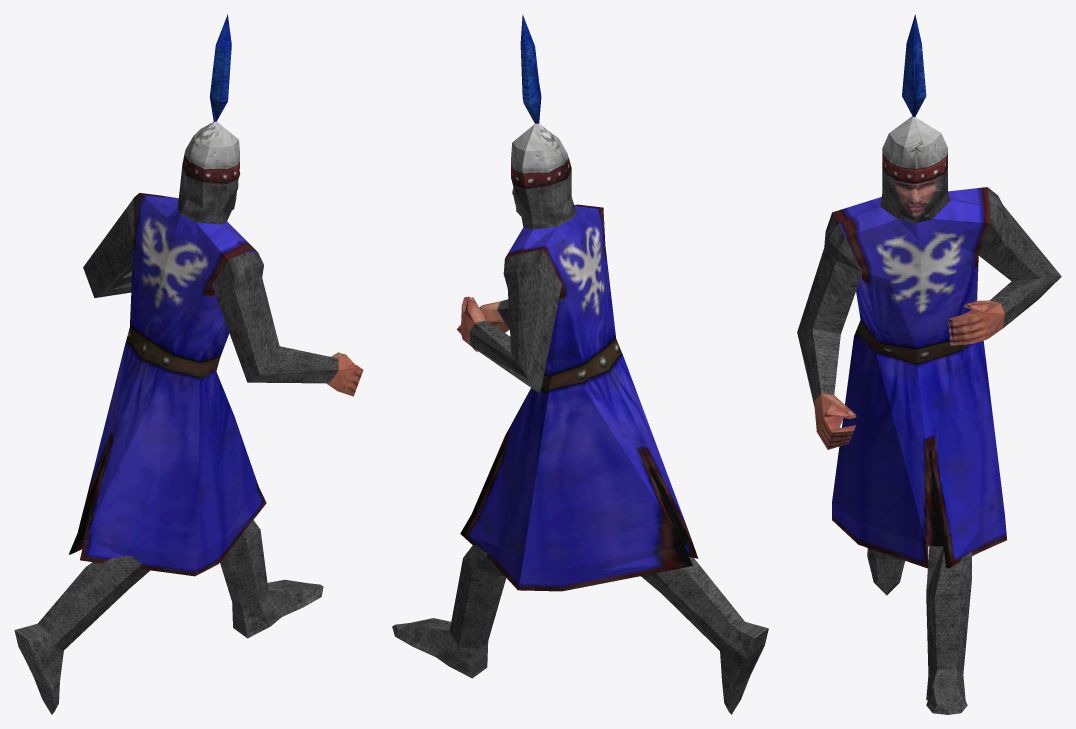
The model's file is guard_run10.obj.
The picture shows the model from 3 angles, left to right: view 1: azimuth 30°, elevation 25°; view 2: azimuth 150°, elevation 25°; view 3: azimuth 270°, elevation 25°; orthographic projection. The views are drawn at different scales.
Parts seen in each view (by area): view 1: Object_1; view 2: Object_1; view 3: Object_1.
Boxes of the visible parts, left/top/right/bottom form: Object_1: left=14, top=14, right=363, bottom=714; Object_1: left=392, top=14, right=768, bottom=714; Object_1: left=797, top=14, right=1061, bottom=714.
Size of the model in its own units: 1.18 by 2.2 by 0.778.
1 material, 1 textured.
